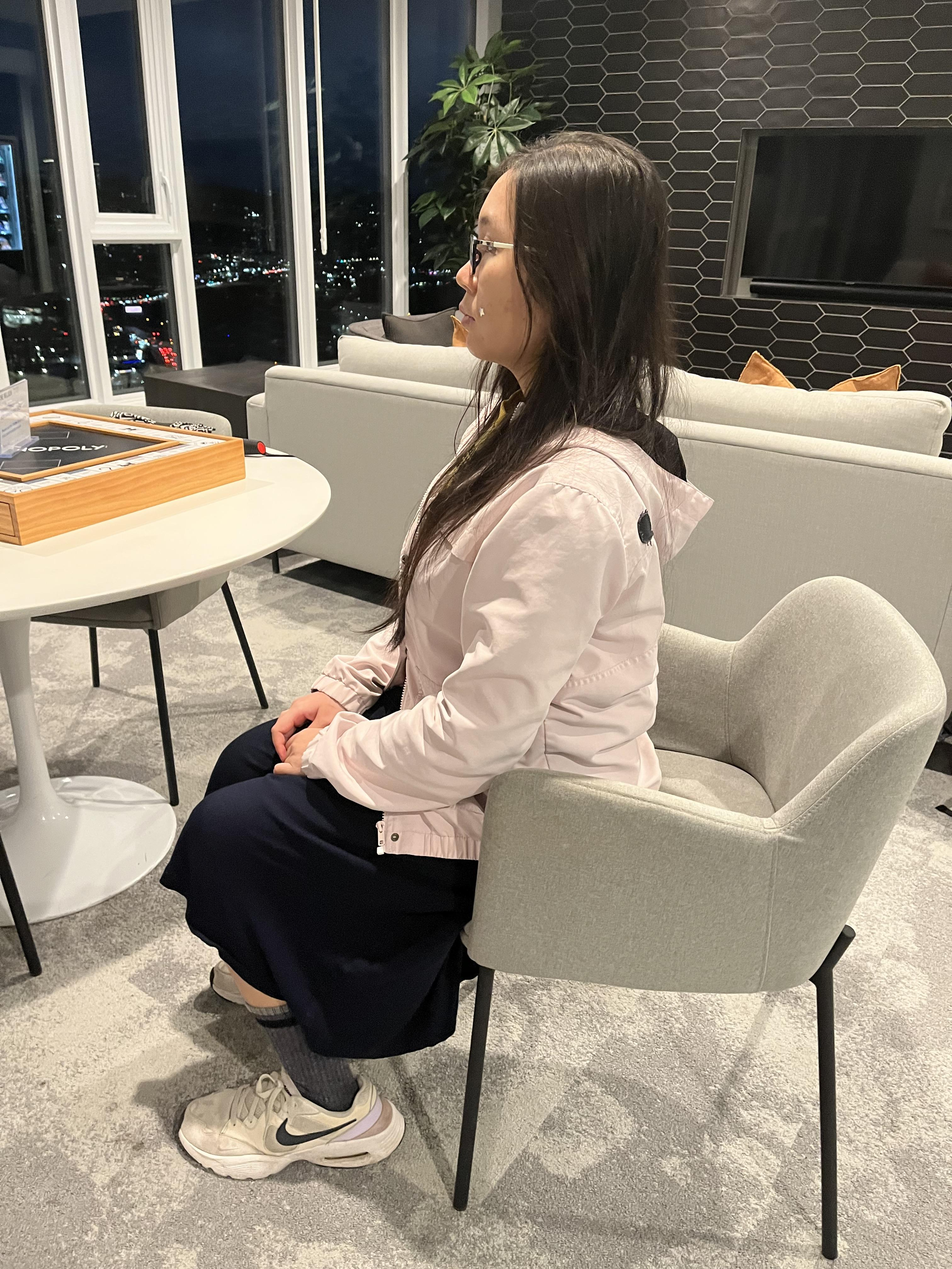GoodPosture: (159, 126, 711, 1180)
